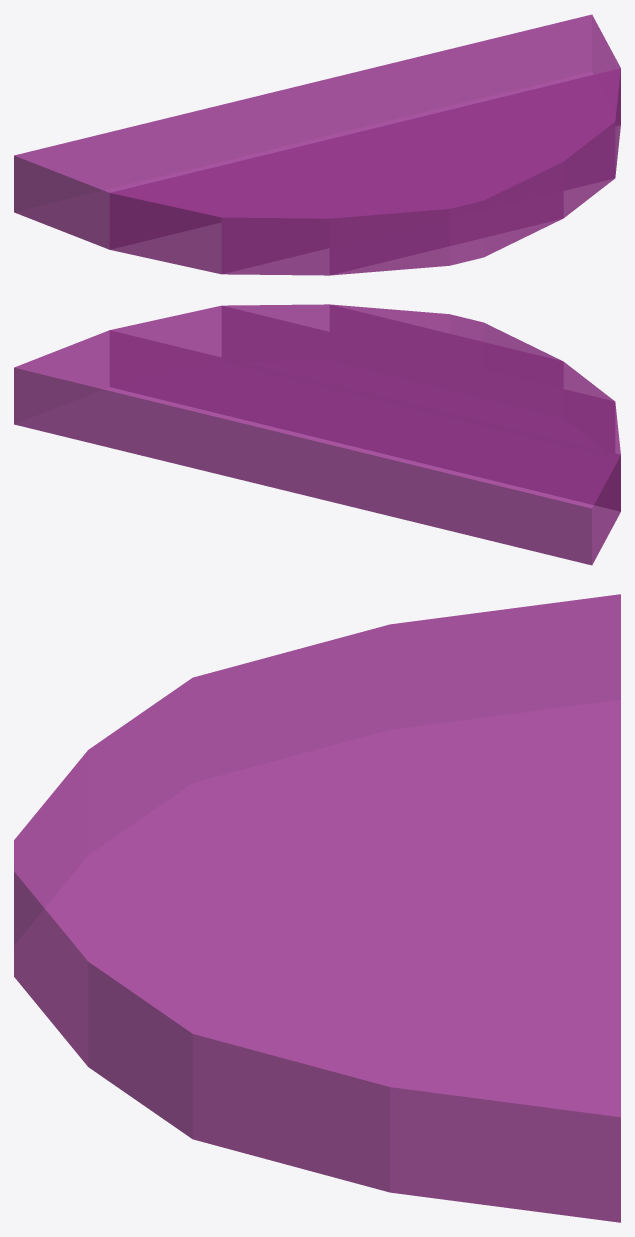
File: SM_Prop_Cannon_Base_03_Collision.fbx
The picture shows the model from 3 angles, top to bottom: view 1: azimuth 30°, elevation 25°; view 2: azimuth 150°, elevation 25°; view 3: azimuth 270°, elevation 25°; orthographic projection. The views are drawn at different scales.
Parts seen in each view (by area): view 1: SM_Prop_Cannon_Base_03_Collision; view 2: SM_Prop_Cannon_Base_03_Collision; view 3: SM_Prop_Cannon_Base_03_Collision.
Part boxes in pixels (x1,y1,x2,y2): SM_Prop_Cannon_Base_03_Collision: [14, 14, 620, 275]; SM_Prop_Cannon_Base_03_Collision: [14, 304, 620, 565]; SM_Prop_Cannon_Base_03_Collision: [14, 594, 620, 1222].
Bounding box in the file's own units: 374 × 35.15 × 183.
